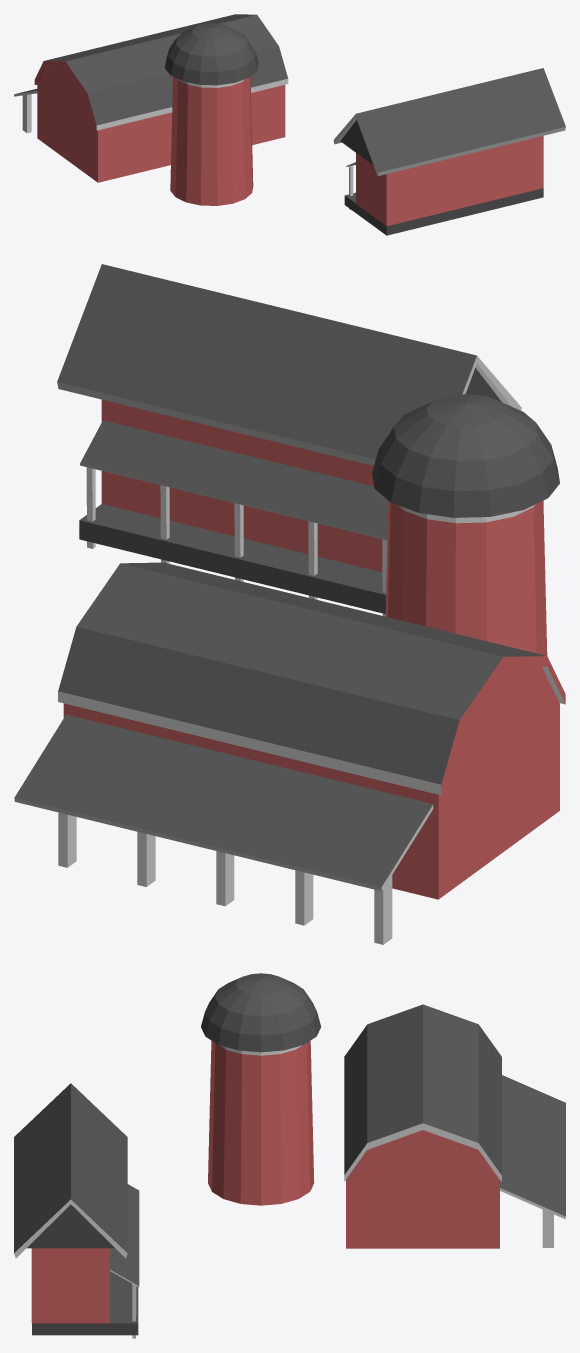
Rendered from barn10.fbx.
3 renders of one model, top to bottom at view 1: azimuth 30°, elevation 25°; view 2: azimuth 150°, elevation 25°; view 3: azimuth 270°, elevation 25°, orthographic. The views are drawn at different scales.
Parts seen in each view (by area): view 1: House, Barn, Silo; view 2: Barn, House, Silo; view 3: Barn, House, Silo.
Boxes of the visible parts, x1,y1,x2,y2 form: House: [333, 68, 565, 235]; Barn: [14, 14, 288, 182]; Silo: [165, 23, 258, 205]; Barn: [14, 562, 565, 944]; House: [57, 264, 521, 616]; Silo: [372, 394, 559, 655]; Barn: [344, 1004, 565, 1248]; House: [14, 1083, 139, 1338]; Silo: [201, 973, 321, 1205].
Size of the model in its own units: 1837 by 871 by 2037.
